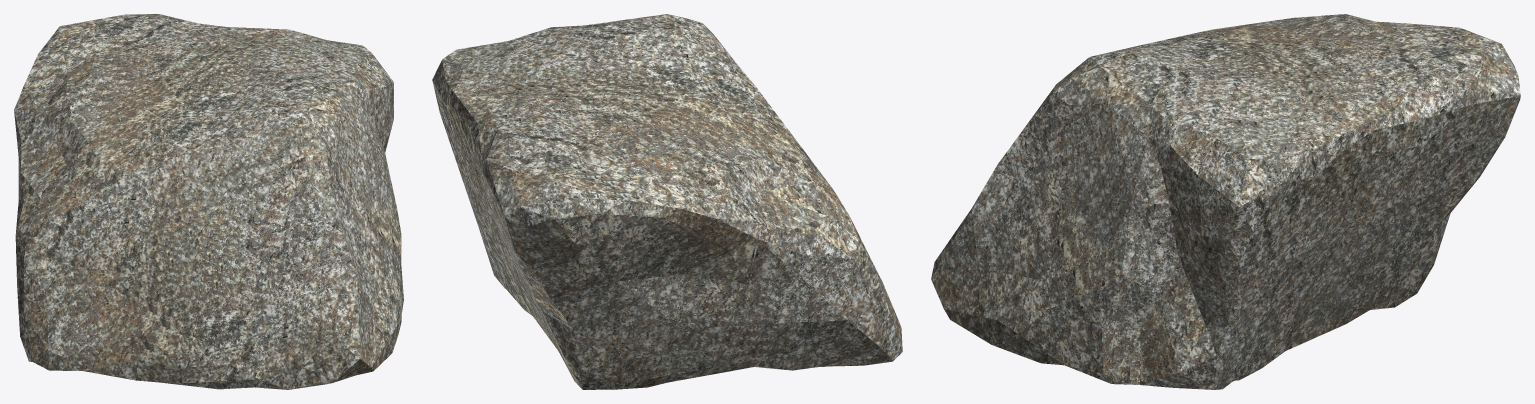
The model's file is boulder.dae.
The picture shows the model from 3 angles, left to right: view 1: azimuth 30°, elevation 25°; view 2: azimuth 150°, elevation 25°; view 3: azimuth 270°, elevation 25°; orthographic projection. The views are drawn at different scales.
Visible parts, largest first — view 1: skp7A; view 2: skp7A; view 3: skp7A.
Part boxes in pixels (box(x1,y1,x2,y2)): skp7A: box(14, 14, 403, 389); skp7A: box(432, 14, 902, 389); skp7A: box(931, 14, 1520, 389).
Size of the model in its own units: 39.16 by 43.79 by 22.52.
Materials: 1 (1 with a texture image).
